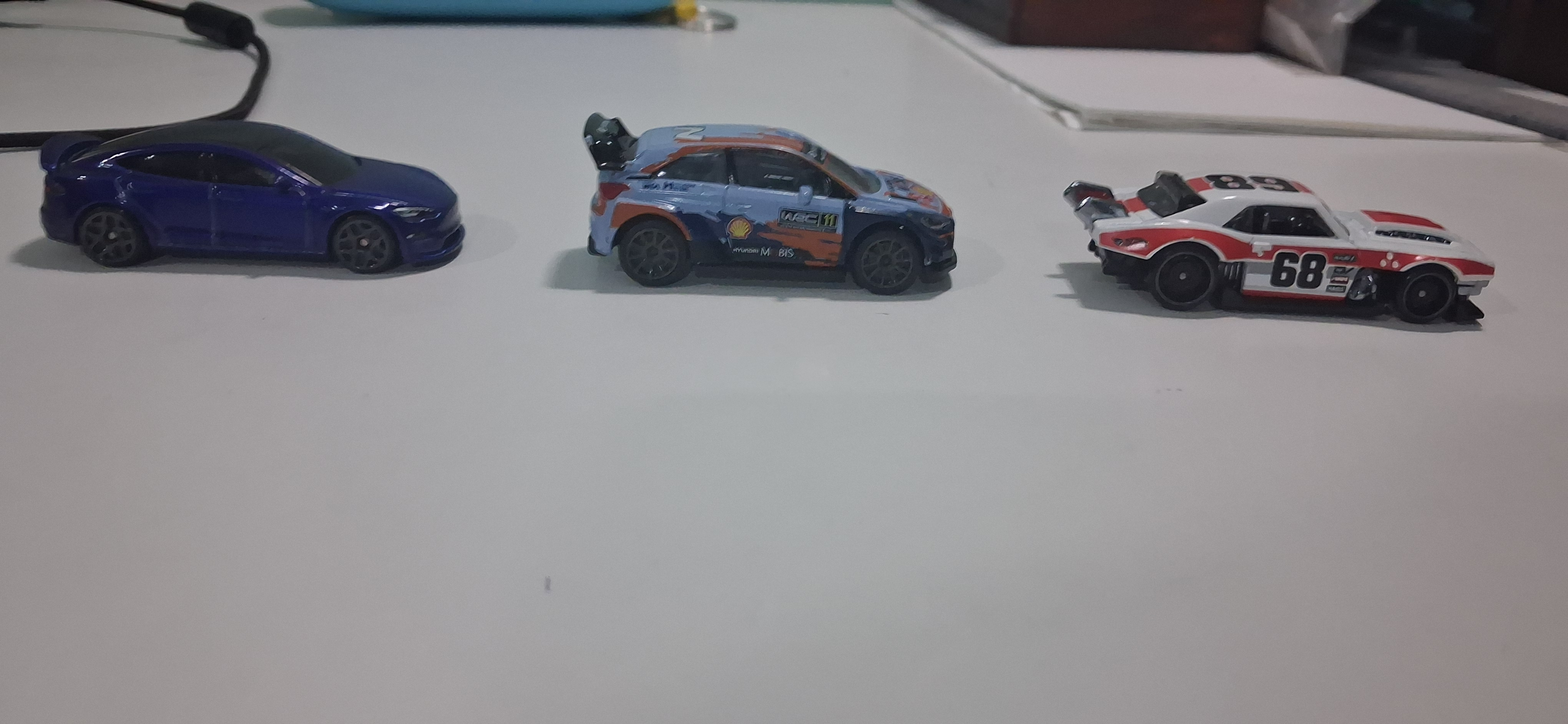Camaro: (1045, 134, 1536, 338)
Hyundai_I20_WRC: (542, 94, 989, 327)
Tesla_Model_S_Plaid: (21, 95, 481, 287)
